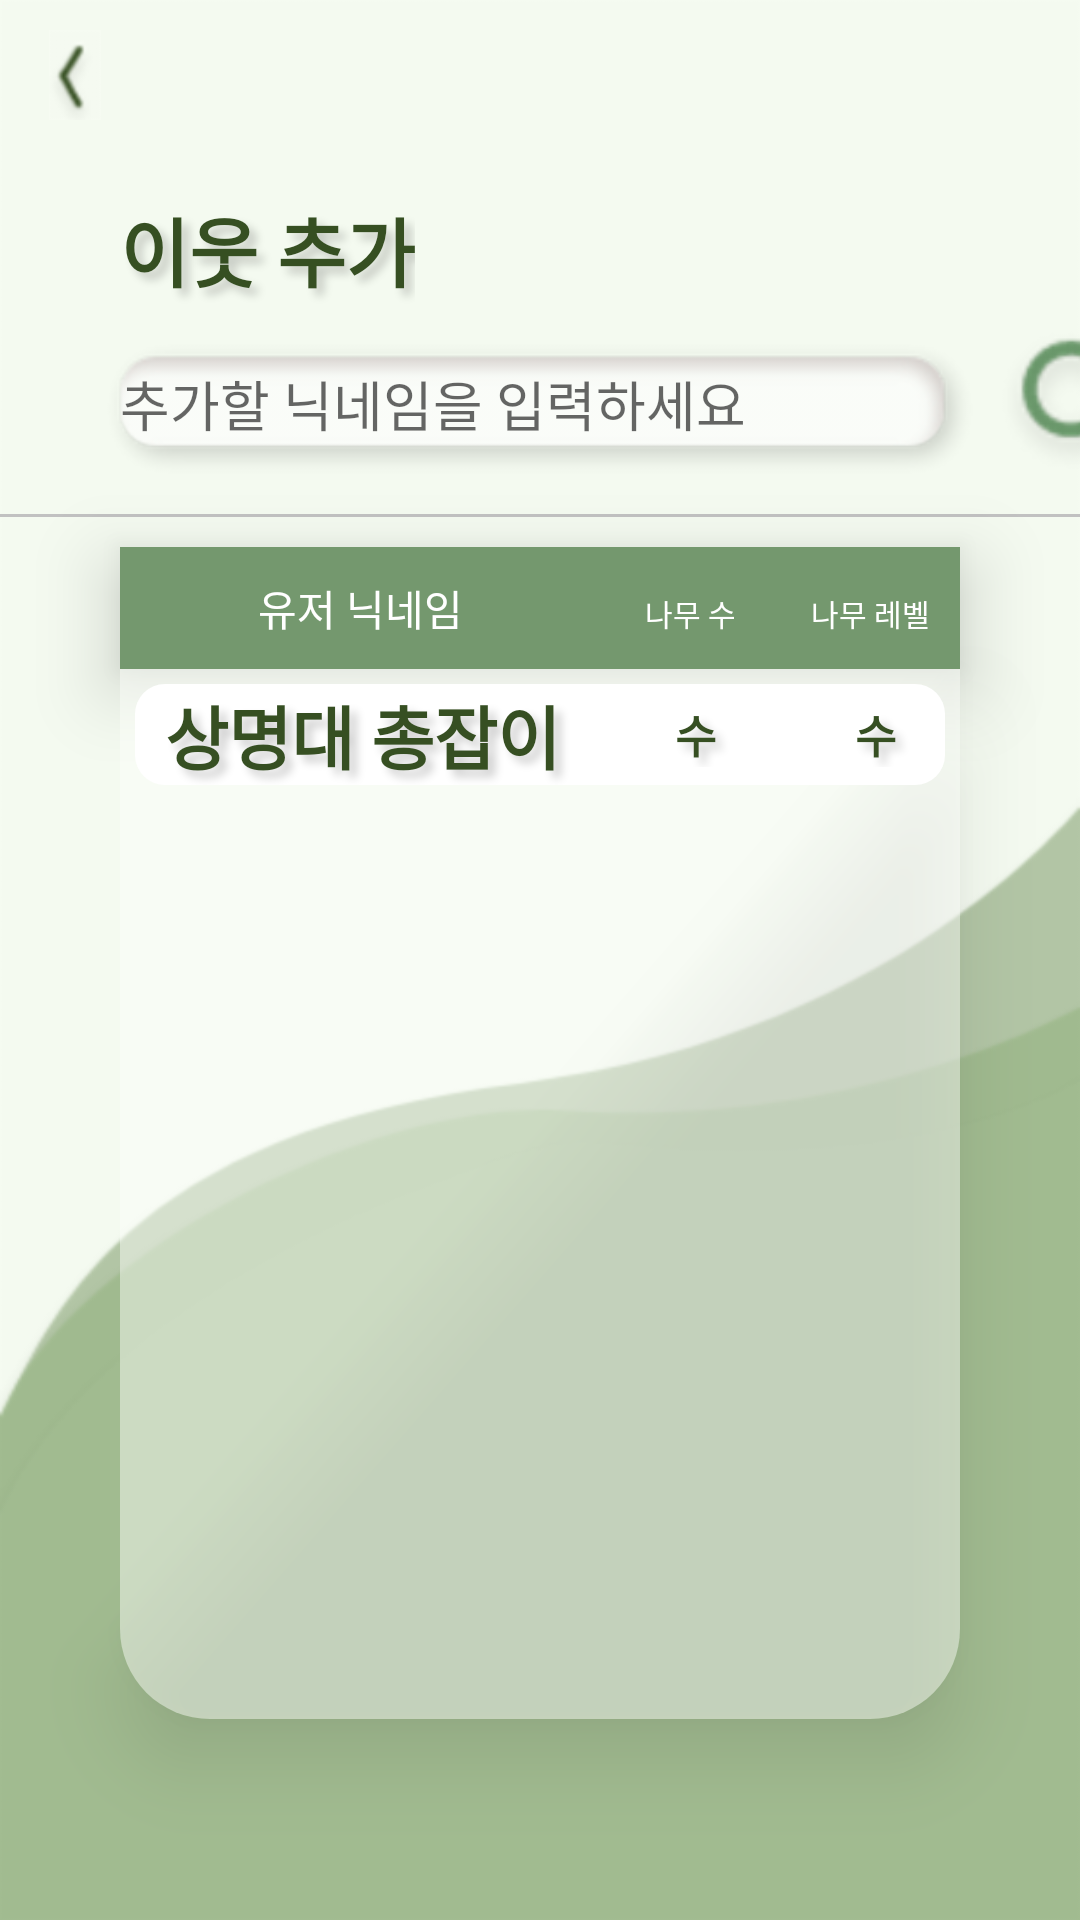

Screen size 1080x1920. Icon name, then its center in pixels as (x=x, y=y):
pre: (x=71, y=77)
